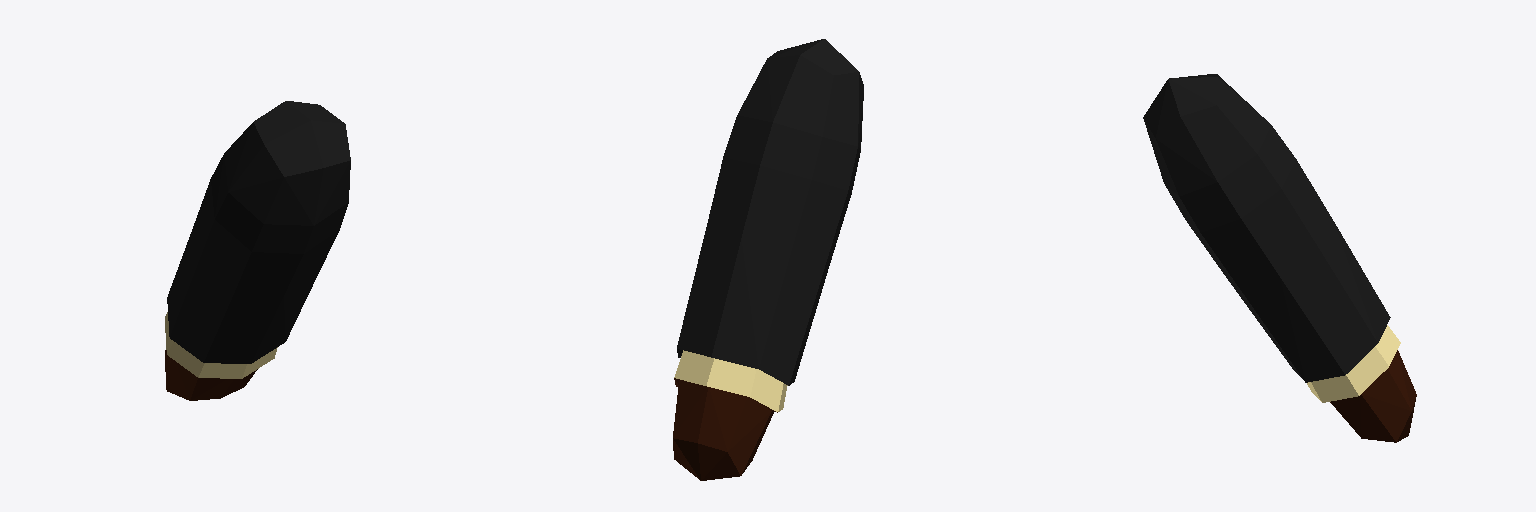
File: owl_right_arm.obj
3 renders of one model, left to right at view 1: azimuth 30°, elevation 25°; view 2: azimuth 150°, elevation 25°; view 3: azimuth 270°, elevation 25°, orthographic.
Visible parts, largest first — view 1: owl_right_arm; view 2: owl_right_arm; view 3: owl_right_arm.
Part boxes in pixels (left/top/right/bottom): owl_right_arm: left=165, top=101, right=350, bottom=400; owl_right_arm: left=673, top=39, right=863, bottom=480; owl_right_arm: left=1143, top=74, right=1416, bottom=442.
Bounding box in the file's own units: 0.1256 × 0.3525 × 0.2451.